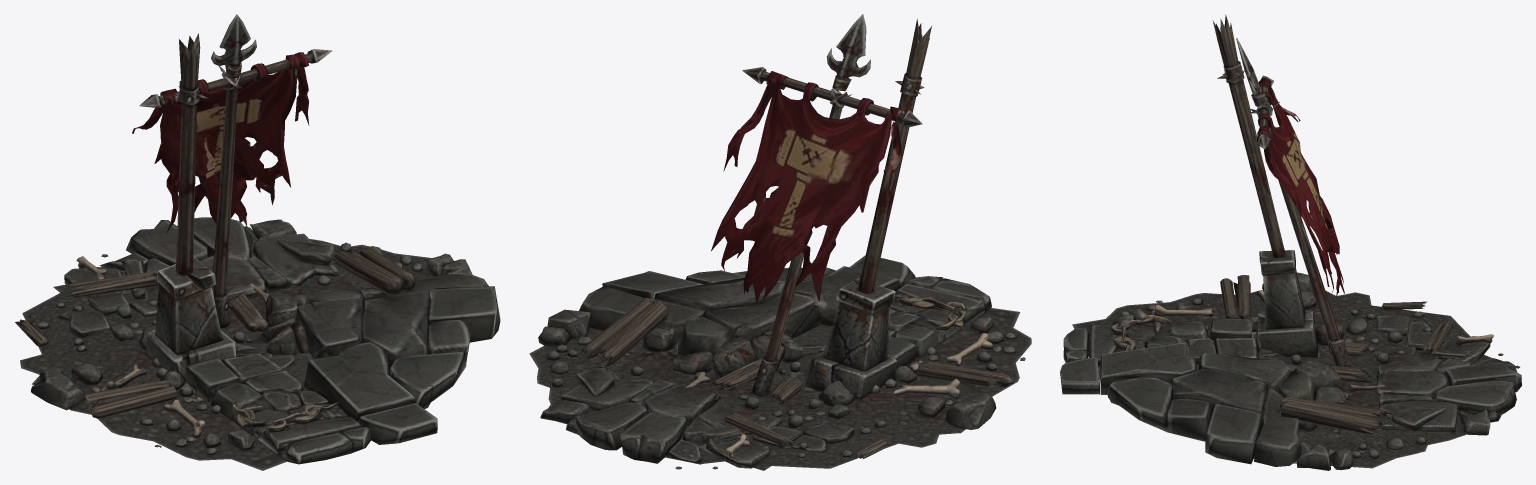
File: clan_banner.glb
3 views of the same model, side by side, from view 1: azimuth 30°, elevation 25°; view 2: azimuth 150°, elevation 25°; view 3: azimuth 270°, elevation 25° (orthographic). The views are drawn at different scales.
Parts seen in each view (by area): view 1: Mesh_0; view 2: Mesh_0; view 3: Mesh_0.
Boxes of the visible parts, x1,y1,x2,y2 form: Mesh_0: (15,14,500,470); Mesh_0: (529,14,1031,470); Mesh_0: (1060,14,1521,470).
Size of the model in its own units: 0.9136 by 0.7241 by 0.957.
1 material, 1 textured.
